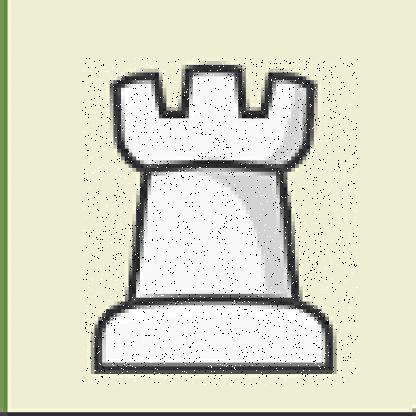White Castle: (82, 58, 359, 386)
